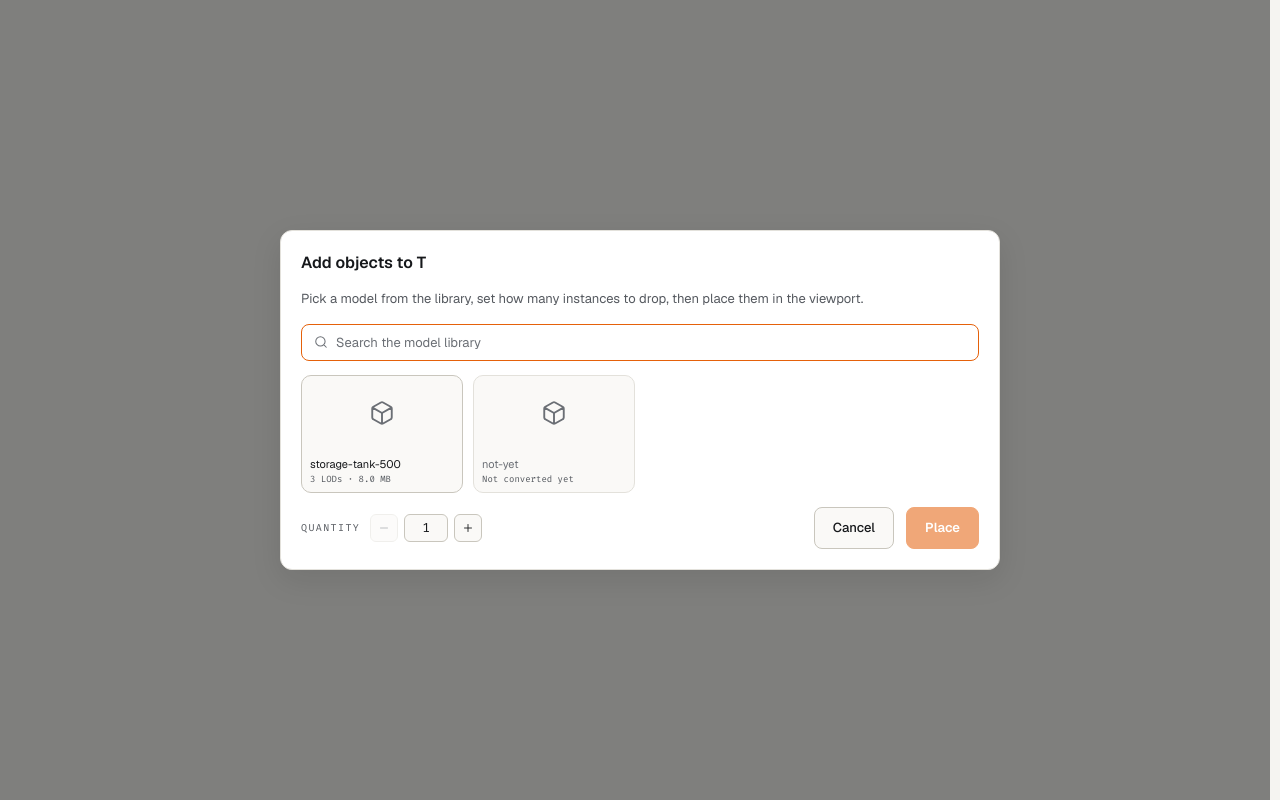
Test case: PlaceObjectsModal › says a query matching nothing found nothing, not that the library is empty
Step 1. Type "zzz" into the search field labelled "Search the model library" → {"x": 651, "y": 342}, box [336,333,966,352]
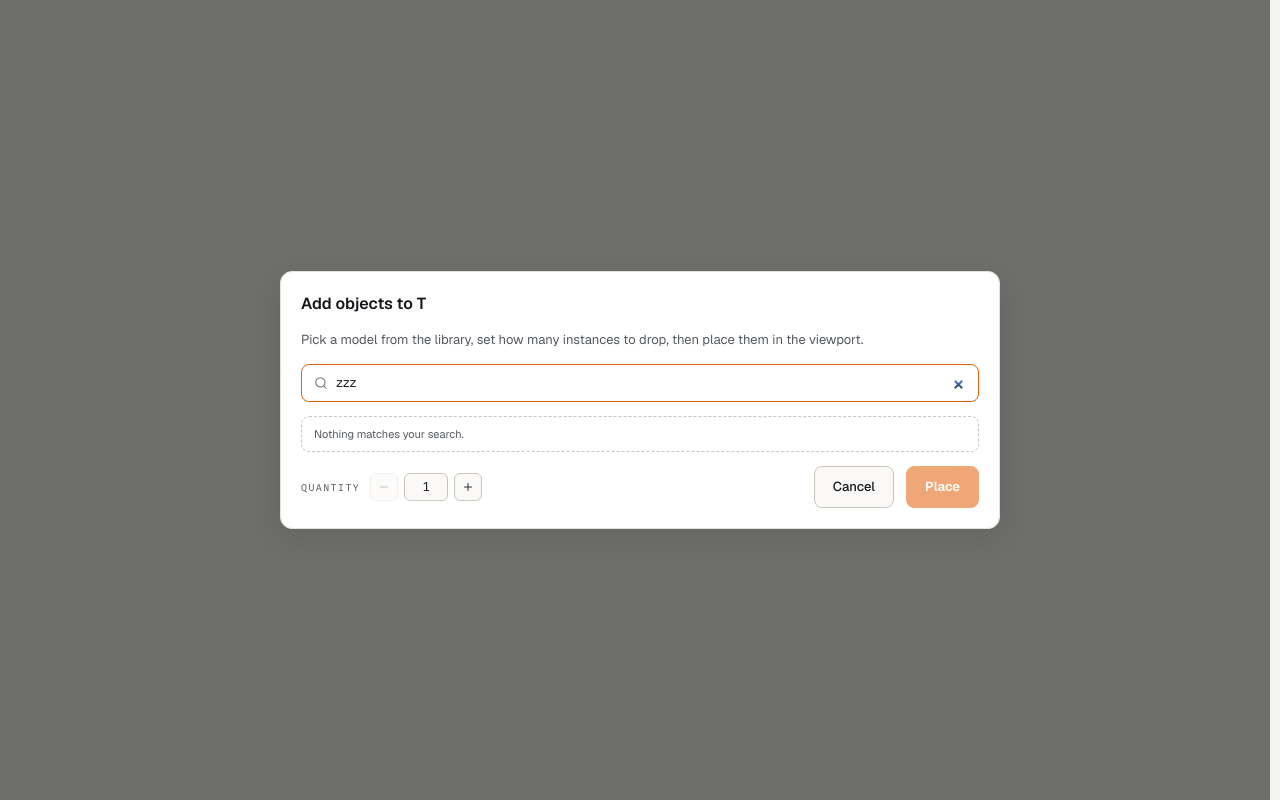
Expected: the text "Nothing matches your search." is shown, [301,416,979,452]
